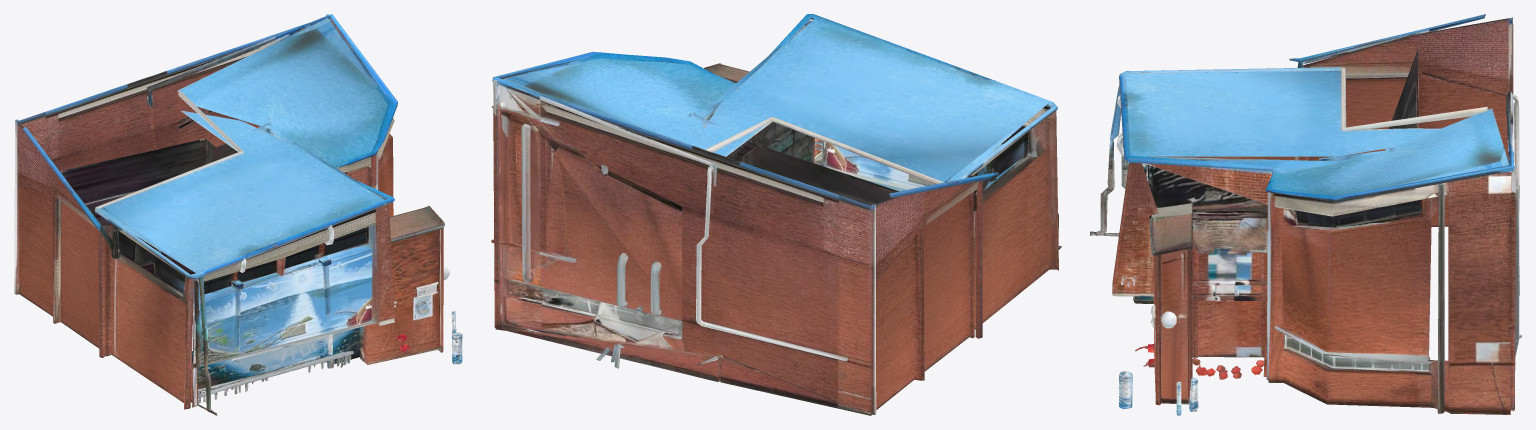
Rendered from front.glb.
3 views of the same model, side by side, from view 1: azimuth 30°, elevation 25°; view 2: azimuth 150°, elevation 25°; view 3: azimuth 270°, elevation 25° (orthographic). The views are drawn at different scales.
Visible parts, largest first — view 1: mesh_node; view 2: mesh_node; view 3: mesh_node.
Boxes of the visible parts, x1,y1,x2,y2 form: mesh_node: (14,14,462,415); mesh_node: (491,14,1061,415); mesh_node: (1090,14,1521,415).
Bounding box in the file's own units: 18.56 × 12 × 17.87.
Materials: 1 (1 with a texture image).
